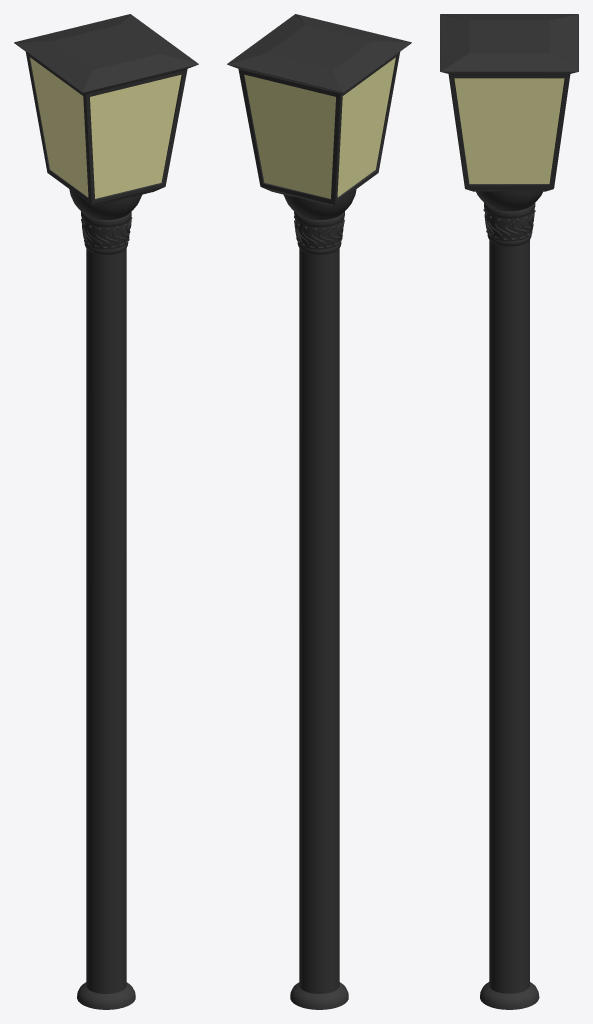
Rendered from Lampara-obj.obj.
The picture shows the model from 3 angles, left to right: view 1: azimuth 30°, elevation 25°; view 2: azimuth 150°, elevation 25°; view 3: azimuth 270°, elevation 25°; orthographic projection.
Parts seen in each view (by area): view 1: Estructura_Object01, Lampara_Object01.001; view 2: Estructura_Object01, Lampara_Object01.001; view 3: Estructura_Object01, Lampara_Object01.001.
Part boxes in pixels (left/top/right/bottom): Estructura_Object01: left=14, top=14, right=198, bottom=1009; Lampara_Object01.001: left=30, top=57, right=181, bottom=198; Estructura_Object01: left=227, top=14, right=411, bottom=1009; Lampara_Object01.001: left=244, top=57, right=395, bottom=198; Estructura_Object01: left=440, top=14, right=578, bottom=1009; Lampara_Object01.001: left=454, top=78, right=564, bottom=183.
Size of the model in its own units: 0.9134 by 7.1 by 0.9291.
